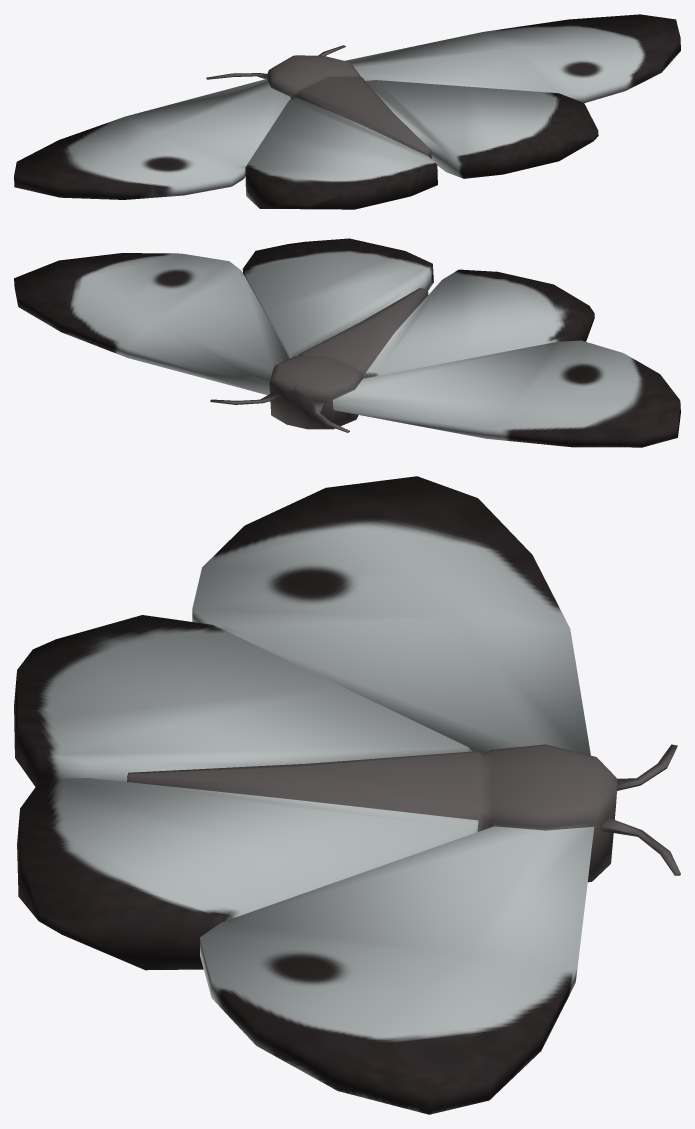
The model's file is butterfly_white.fbx.
3 views of the same model, one above another, from view 1: azimuth 30°, elevation 25°; view 2: azimuth 150°, elevation 25°; view 3: azimuth 270°, elevation 25° (orthographic). The views are drawn at different scales.
Visible parts, largest first — view 1: moth.001; view 2: moth.001; view 3: moth.001.
Boxes of the visible parts, x1,y1,x2,y2 form: moth.001: [14, 14, 680, 209]; moth.001: [14, 238, 680, 447]; moth.001: [14, 476, 680, 1114].
Bounding box in the file's own units: 25.41 × 1.86 × 11.89.
Materials: 1 (1 with a texture image).
